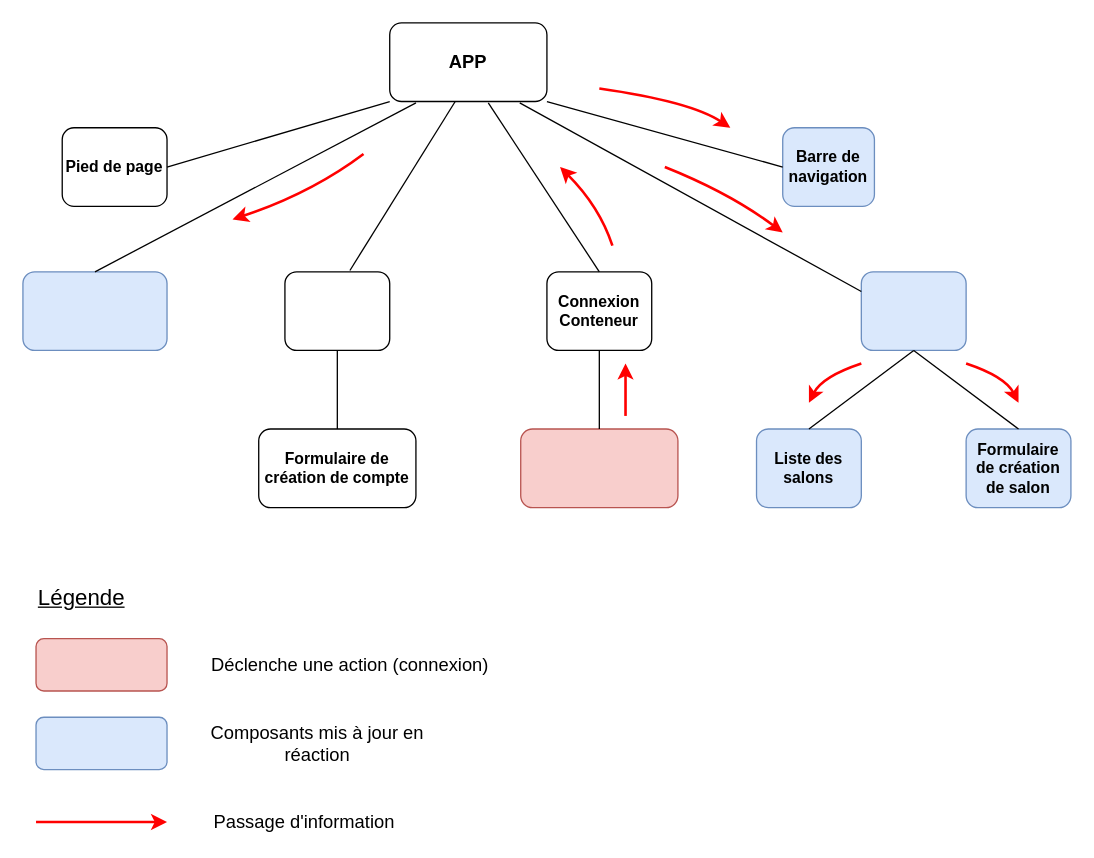
The diagram is 1094 pixels wide and 858 high, and some of its shapes have lost their labels. The shapes that lost their labels are listed below. From the top down, each one's centre as x and y in pixels, then its label:
At point 94,310: "Notification".
At point 337,310: "Création de compte Conteneur".
At point 913,310: "Salons - Conteneur".
At point 598,468: "Formulaire de connexion".
